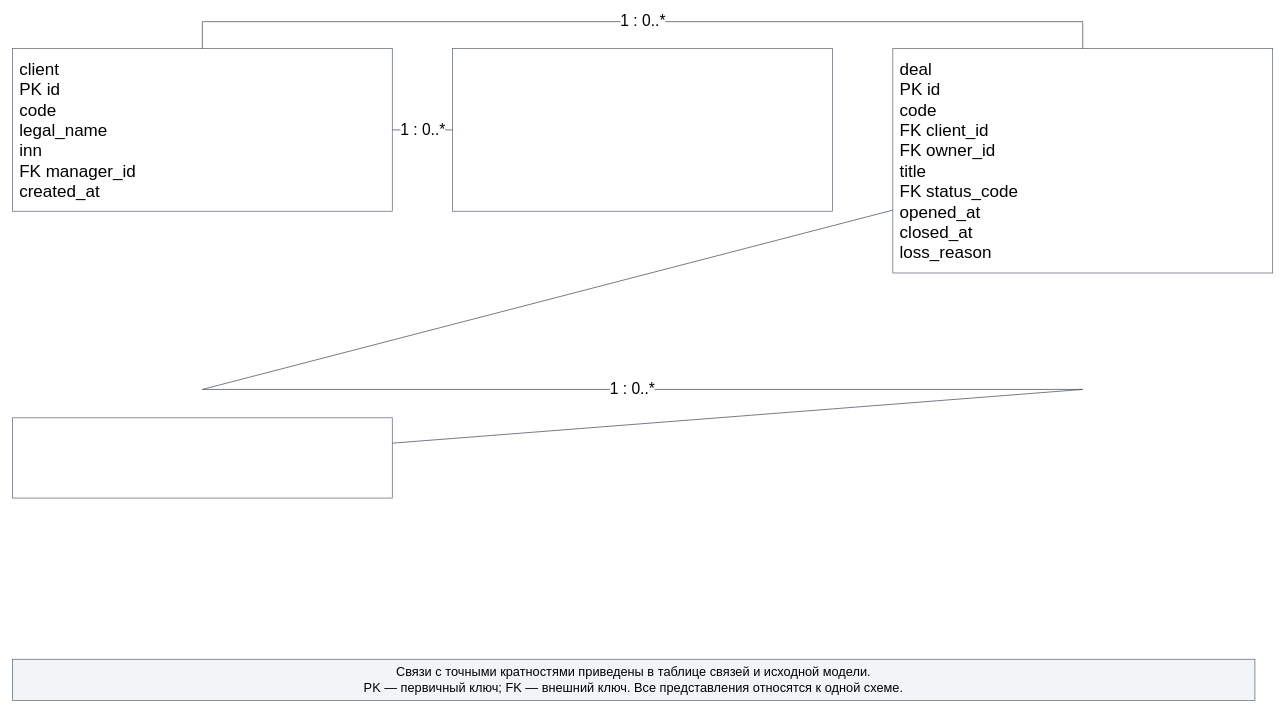
Image size: 1285x713. Some labels were removed from this diagram. Here are the shapes that lost their labels. From the top down, the box of each, then its label:
(452, 48, 832, 211): contact PK id FK client_id full_name email phone created_at
(12, 417, 392, 498): deal_status PK code name
